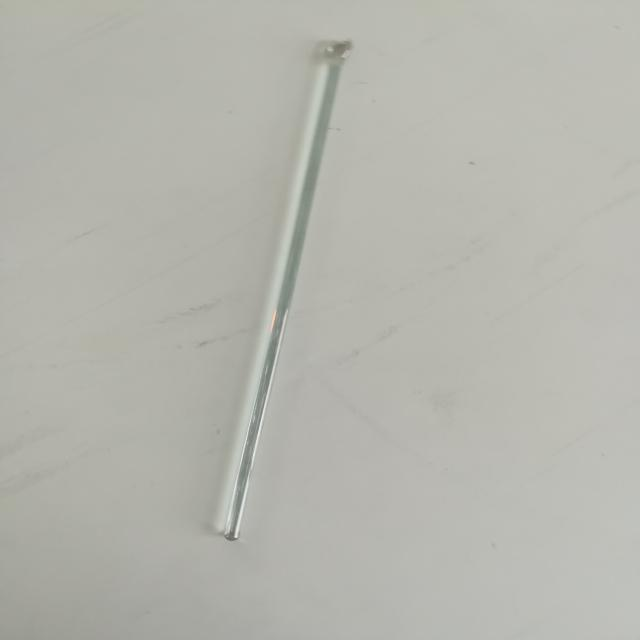Glass_Rod: (192, 11, 385, 559)
